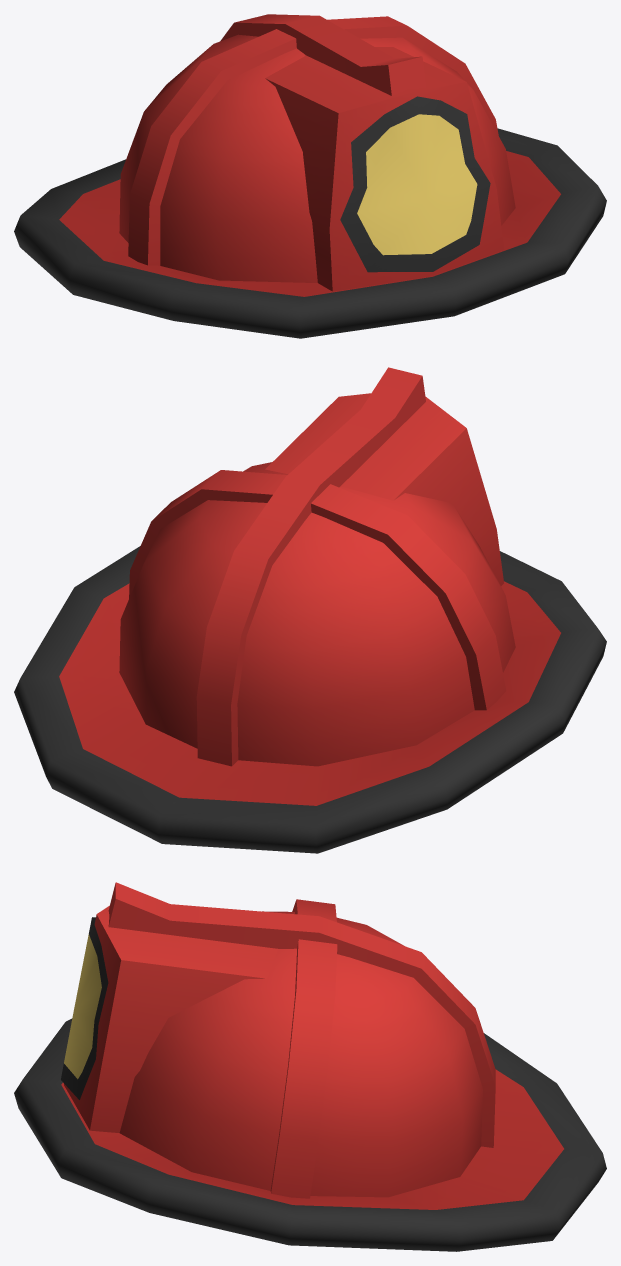
The model's file is Headgear_39.fbx.
3 views of the same model, one above another, from view 1: azimuth 30°, elevation 25°; view 2: azimuth 150°, elevation 25°; view 3: azimuth 270°, elevation 25° (orthographic).
Parts seen in each view (by area): view 1: Headgear_39; view 2: Headgear_39; view 3: Headgear_39.
Part boxes in pixels (bbox=[...]): Headgear_39: bbox=[14, 14, 606, 338]; Headgear_39: bbox=[14, 367, 606, 853]; Headgear_39: bbox=[14, 882, 606, 1251].
Size of the model in its own units: 91.02 by 51.64 by 95.05.
